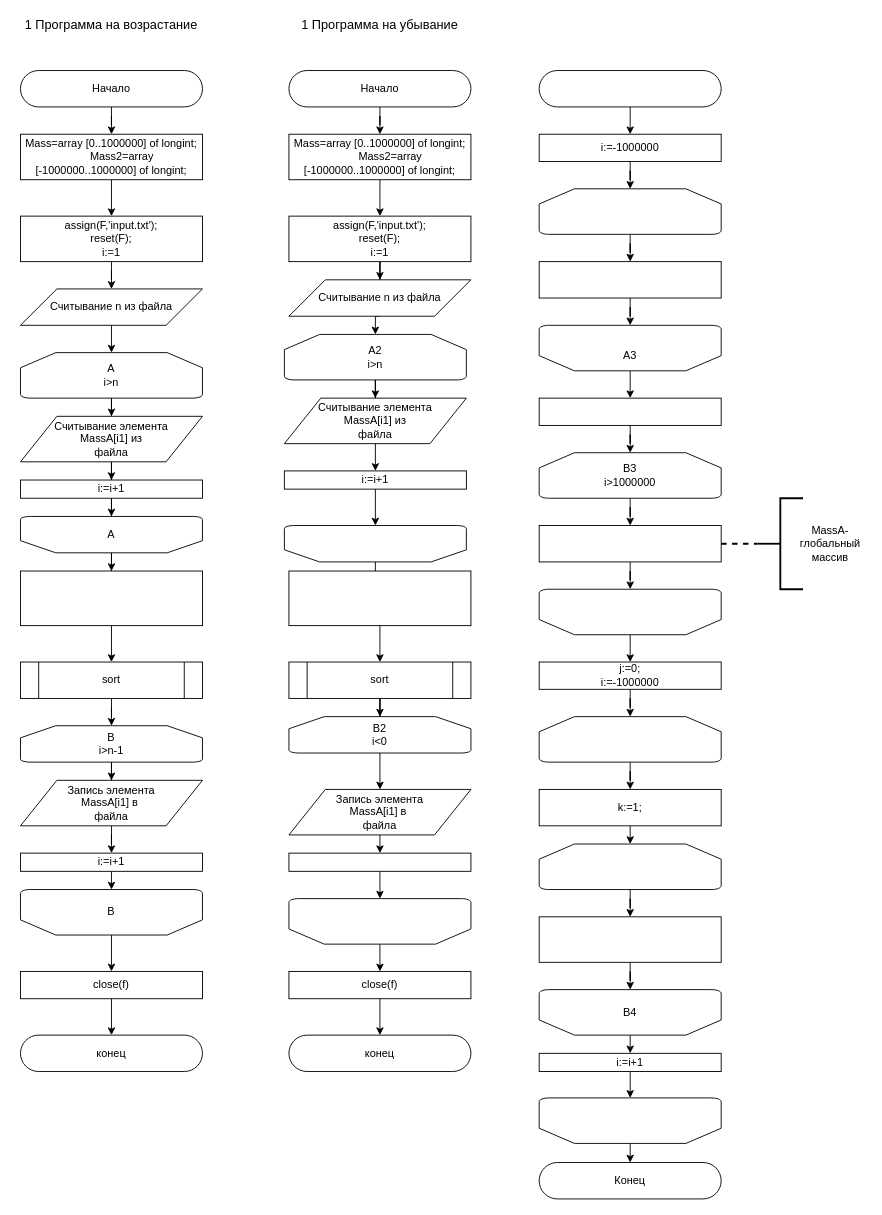
Image size: 882x1215. Some labels were removed from this diagram. Each missing label, with the centre of its shape:
"A2" goes at pixel 374 543.
"A3 i>1000000" goes at pixel 629 211.
"A4" goes at pixel 629 1120.
"A4 i>1000000" goes at pixel 629 739.
"B2" goes at pixel 379 921.
"B3" goes at pixel 629 611.
"B4 k> MassB[i]" goes at pixel 629 866.
"close(f); assign(f,'output.txt'); rewrite(f); i:=0;" goes at pixel 111 598.
"close(f); assign(f,'output.txt'); rewrite(f); i:=n-1;" goes at pixel 379 598.
"i:=1" goes at pixel 629 411.
"i:=i-1" goes at pixel 379 861.
"MassA[j] := i; Inc(j); k:=k+1;" goes at pixel 629 939.
"MassB[i] := 0; i:=i+1" goes at pixel 629 279.
"MassB[MassA[i]] := MassB[MassA[i]] + 1;" goes at pixel 629 543.
"Начало sort" goes at pixel 629 88.
